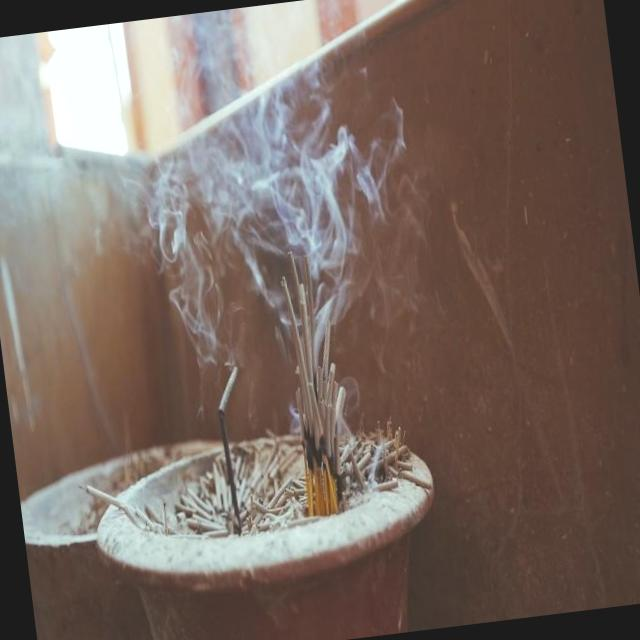smoke: (122, 78, 378, 313)
